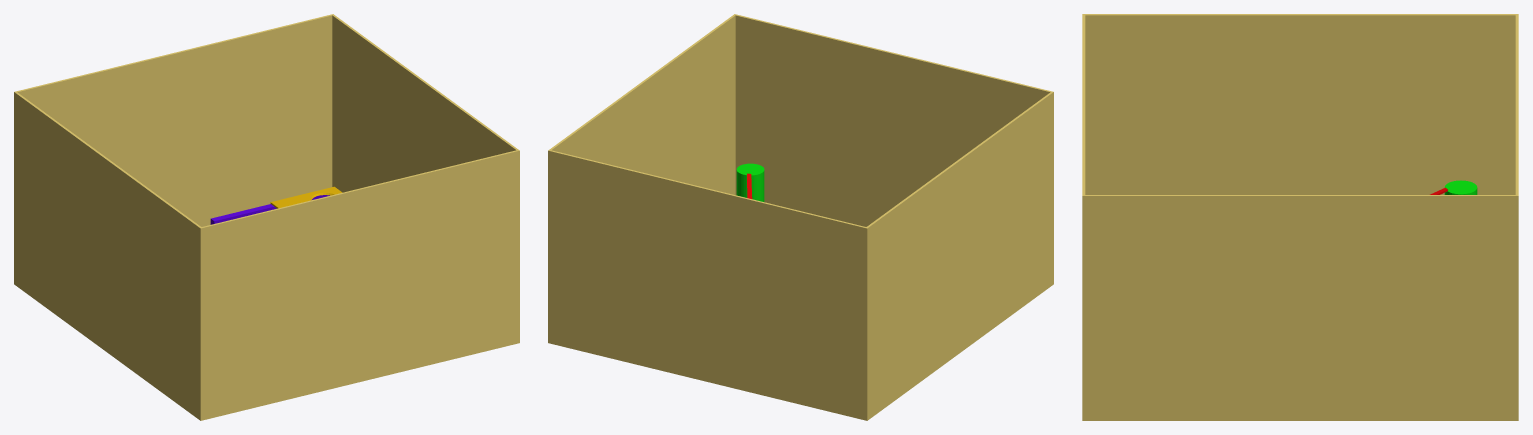
The model's file is level 1 test.fbx.
3 views of the same model, side by side, from view 1: azimuth 30°, elevation 25°; view 2: azimuth 150°, elevation 25°; view 3: azimuth 270°, elevation 25° (orthographic). The views are drawn at different scales.
Visible parts, largest first — view 1: Plane, Cube.004, Cube.005; view 2: Plane, Cylinder; view 3: Plane, Cylinder.001.
Part boxes in pixels (x1=…): Plane: x1=14, y1=14, x2=519, y2=420; Cube.004: x1=270, y1=186, x2=341, y2=208; Cube.005: x1=210, y1=195, x2=329, y2=224; Plane: x1=548, y1=14, x2=1053, y2=420; Cylinder: x1=736, y1=163, x2=764, y2=201; Plane: x1=1082, y1=14, x2=1518, y2=420; Cylinder.001: x1=1444, y1=180, x2=1477, y2=194.
Bounding box in the file's own units: 20000 × 11645 × 20254.
